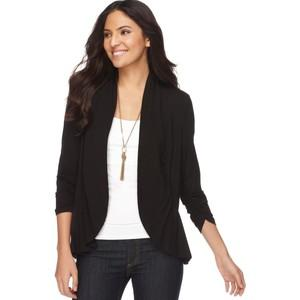C_cardigan sweater: (44, 66, 214, 274)
